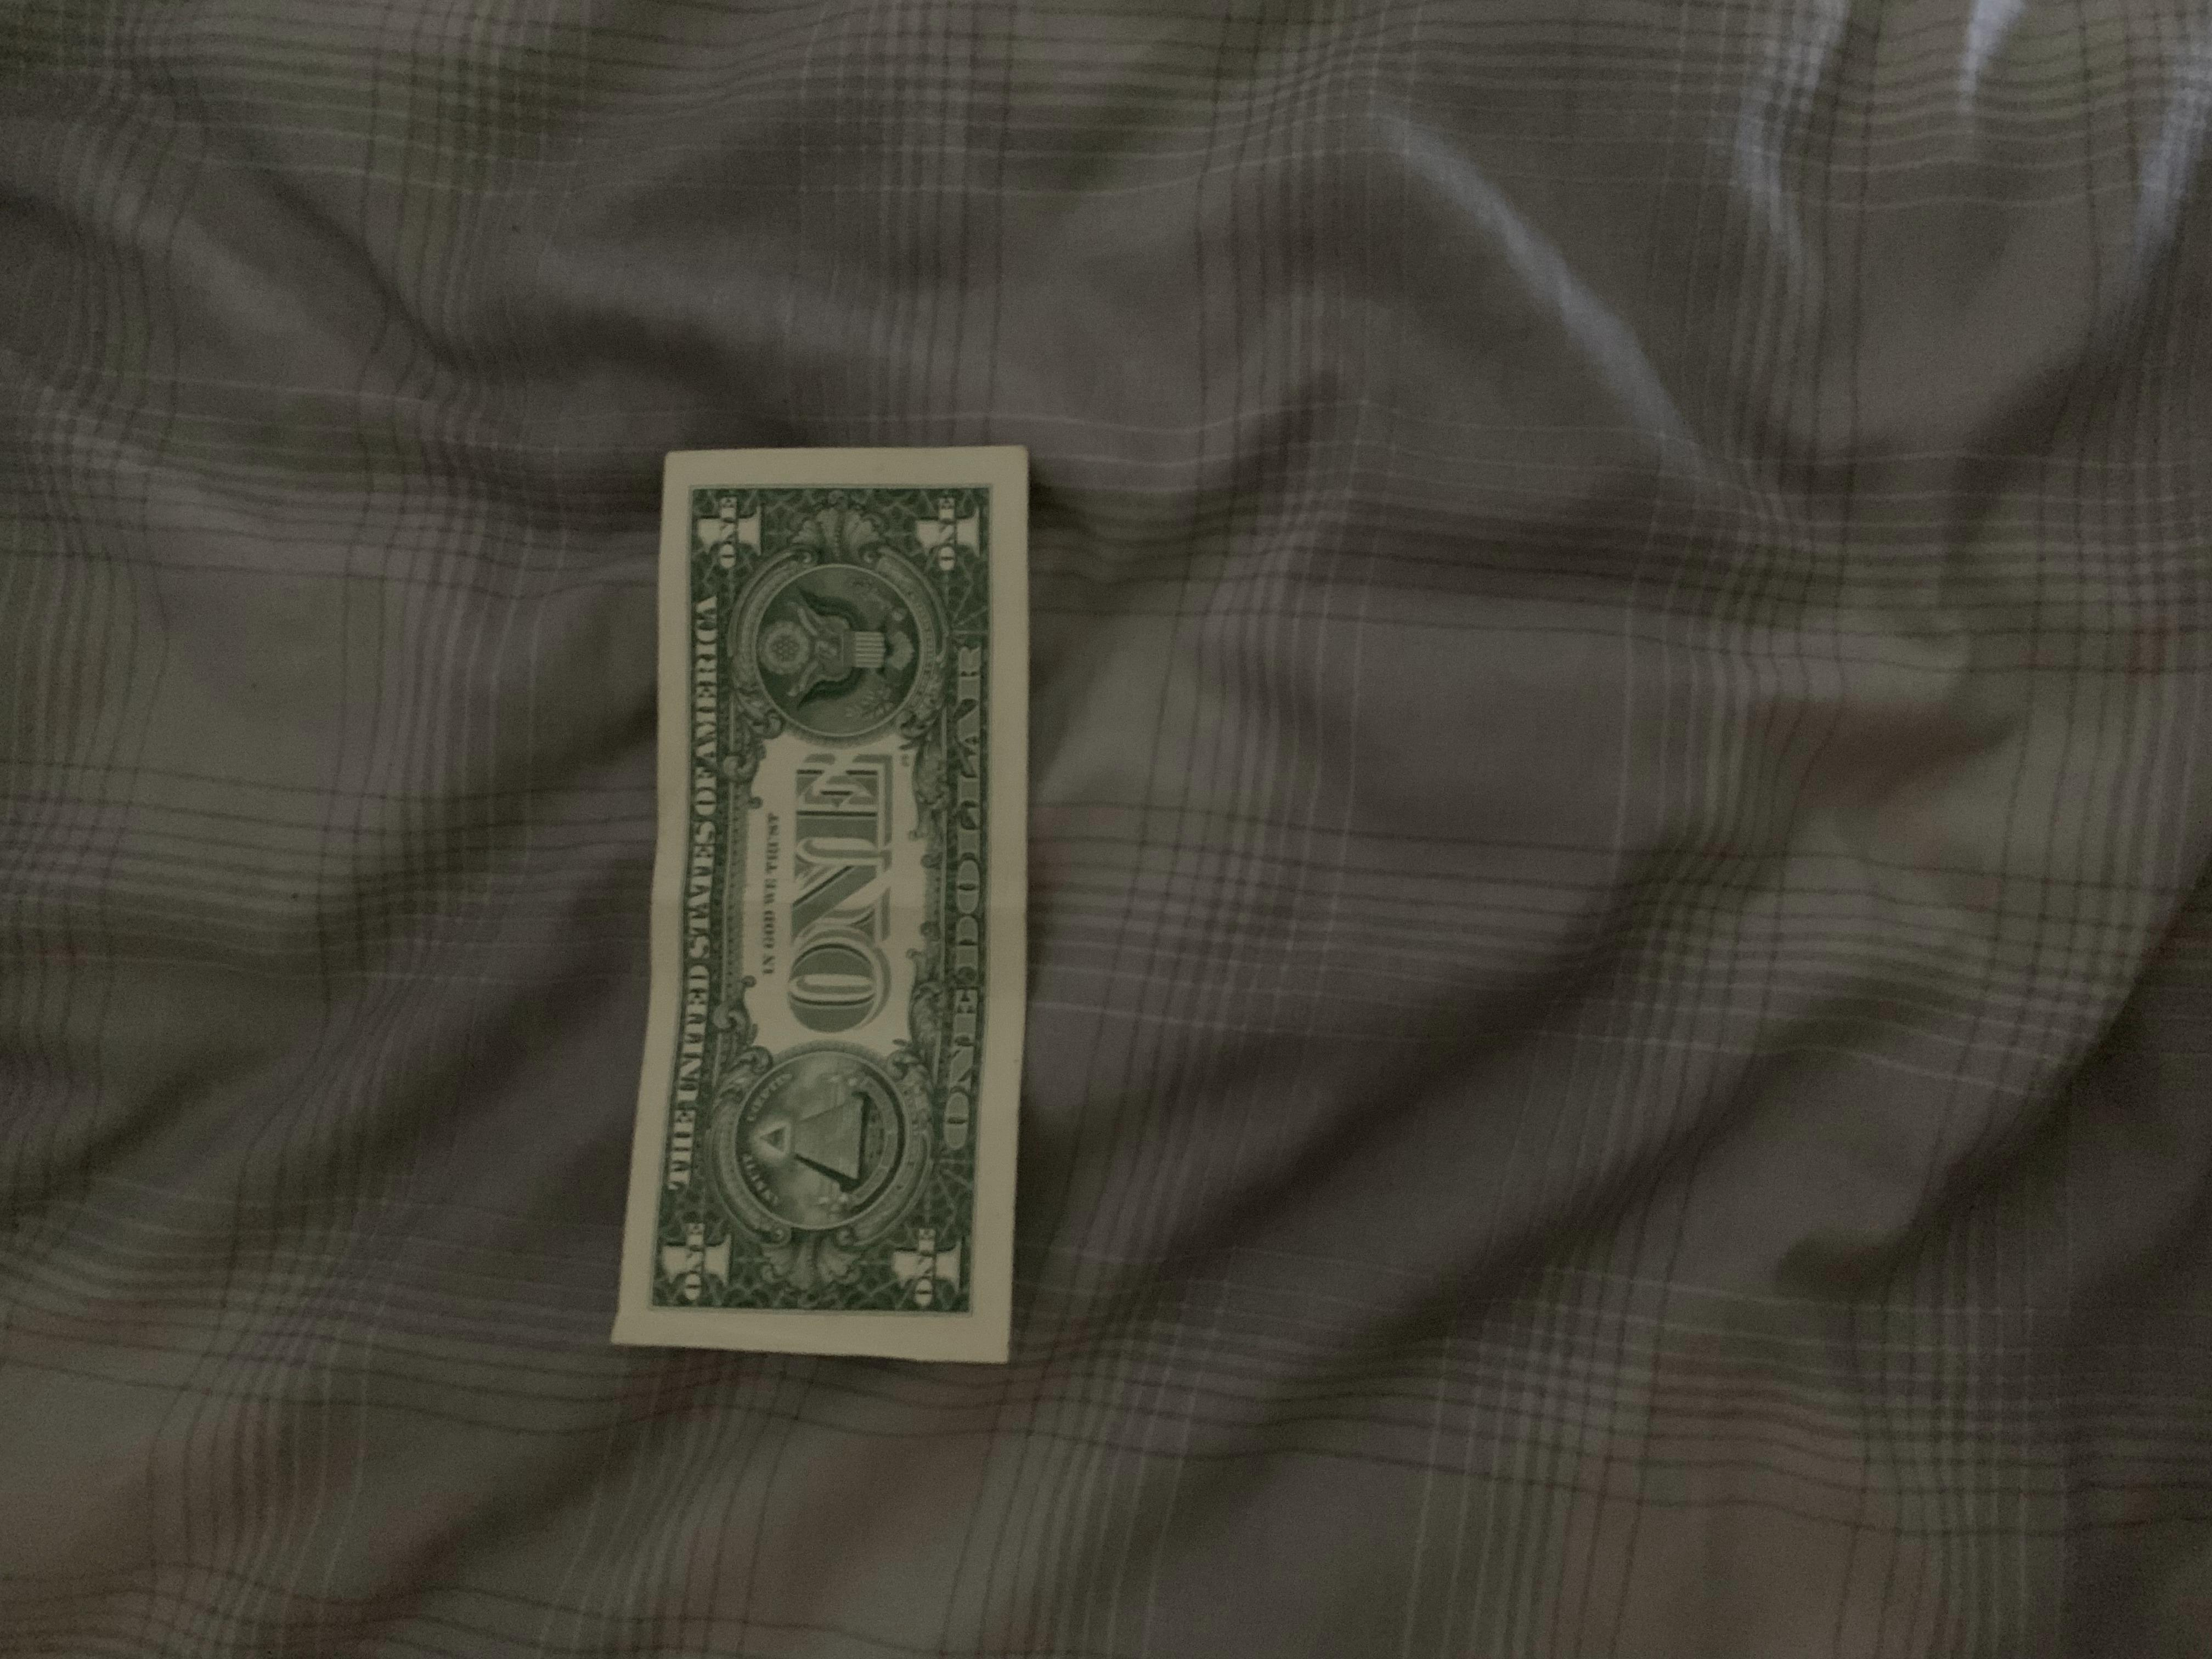OneBill: (618, 425, 1028, 1368)
